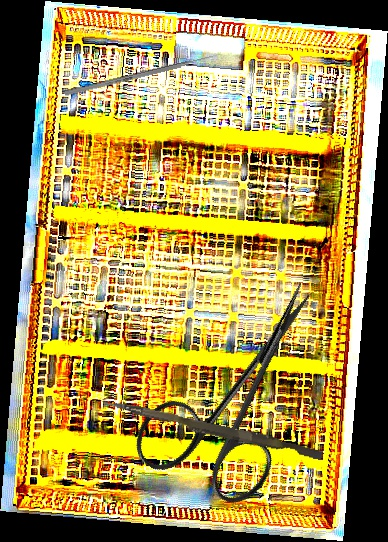Iris Scissors: (125, 249, 363, 522)
Pusher: (101, 398, 325, 461), (63, 51, 223, 97)
